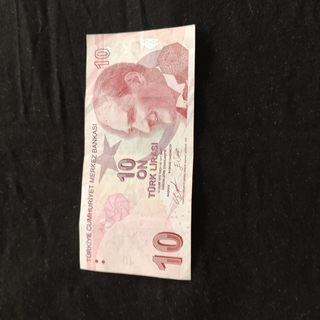10TLFront: (77, 23, 196, 282)
